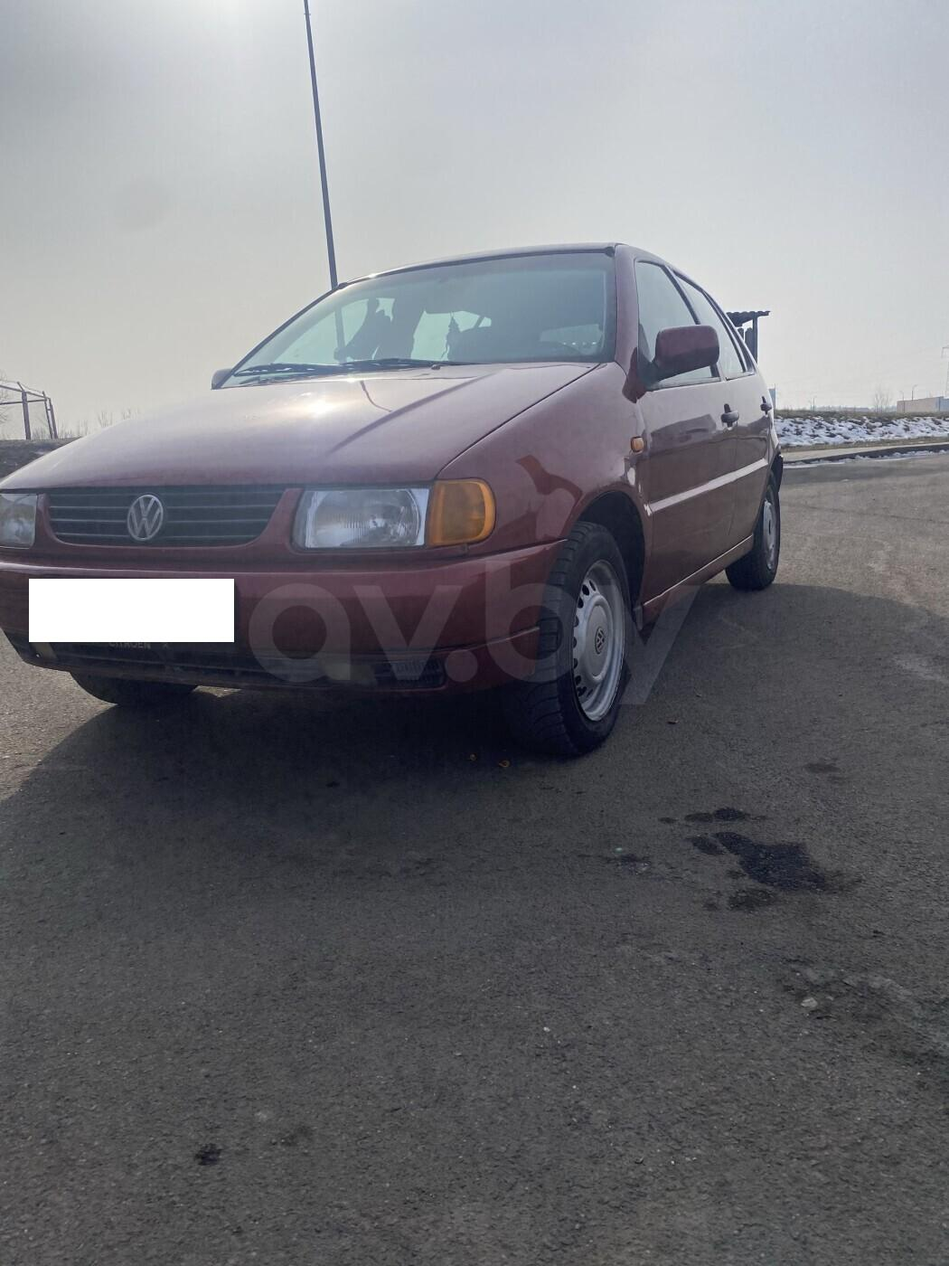Polo_1994-2002: (0, 241, 813, 739)
